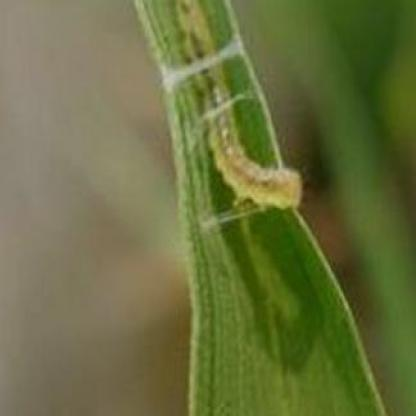leaf-folder: (156, 0, 317, 226)
